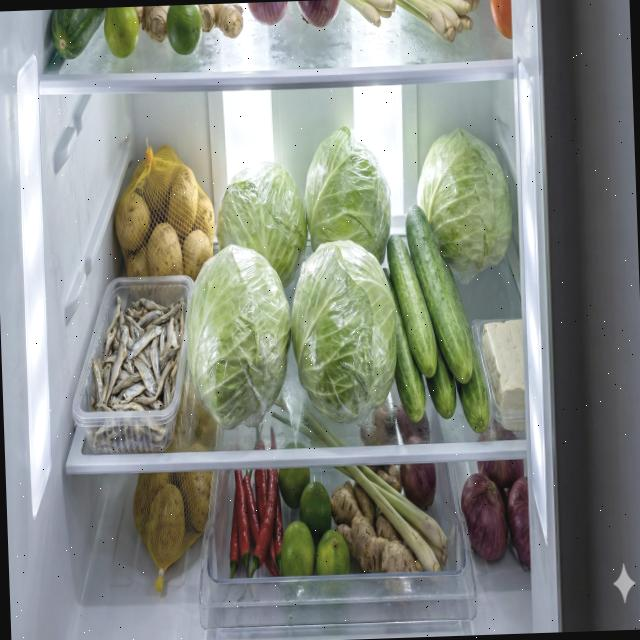anchovies: (85, 291, 189, 450)
cabbage: (182, 242, 294, 432), (288, 236, 400, 424), (414, 124, 515, 274), (301, 124, 393, 268), (212, 157, 310, 290)
chili: (226, 468, 284, 579)
cucumber: (380, 202, 490, 436), (50, 8, 107, 60)
ginger: (330, 462, 424, 576), (198, 2, 244, 40), (134, 5, 170, 44)
lemongrass: (332, 461, 449, 576)
lime: (277, 466, 350, 576), (165, 4, 203, 56), (103, 6, 140, 59)
onion: (460, 459, 530, 569), (399, 462, 438, 511)
potato: (111, 143, 216, 284), (132, 470, 216, 570)
tofu: (482, 318, 526, 432)
